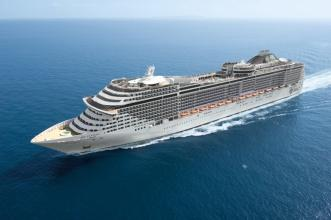youlun: (27, 42, 306, 158)
